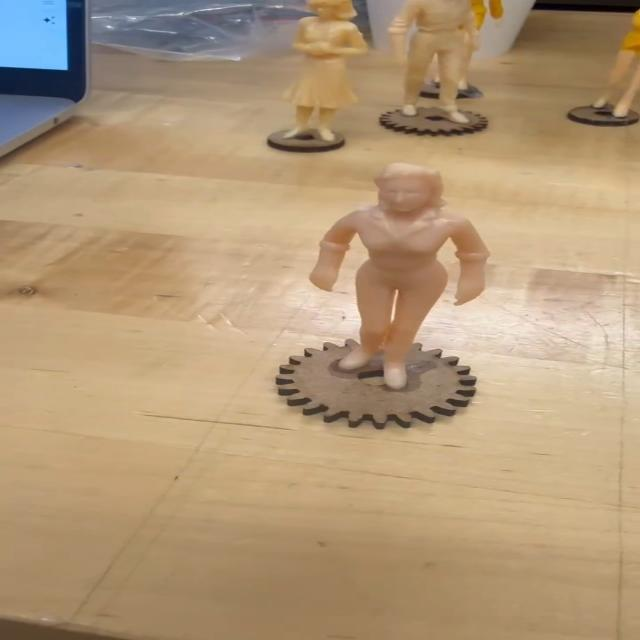Unauthorized: (311, 160, 489, 384)
